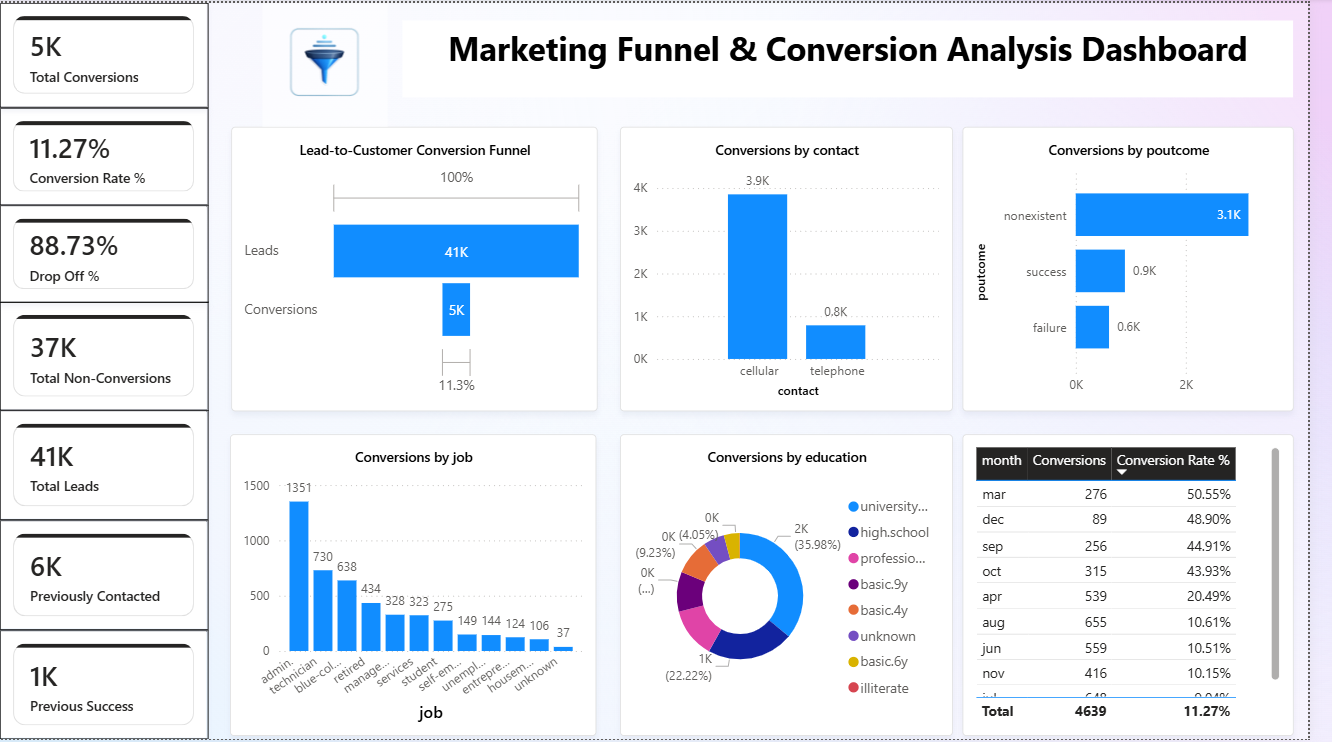

This screenshot's page, from the dashboard's own definition file:
{"tool":"powerbi","page":{"name":"Page 1","canvas":[1280,720],"ordinal":0},"visuals":[{"type":"cardVisual","fields":{"Data":["bank-additional-full.Conversion Rate %"]},"box":[14.3,106.9,182.4,106.9],"z":0},{"type":"cardVisual","fields":{"Data":["bank-additional-full.Total Non-Conversions"]},"box":[564.5,106.9,191,106.9],"z":1000},{"type":"cardVisual","fields":{"Data":["bank-additional-full.Total Conversions"]},"box":[196.7,106.9,189.6,106.9],"z":2000},{"type":"cardVisual","fields":{"Data":["bank-additional-full.Total Leads"]},"box":[755.5,106.9,175.3,106.9],"z":3000},{"type":"cardVisual","fields":{"Data":["bank-additional-full.Drop Off %"]},"box":[386.3,106.9,178.2,106.9],"z":4000},{"type":"funnel","title":"Lead-to-Customer Conversion Funnel","fields":{"Category":["Funnel_data.Column1"],"Y":["Sum(Funnel_data.Column2)"]},"box":[21.4,225.2,386.3,206.7],"z":5000},{"type":"clusteredColumnChart","fields":{"Y":["bank-additional-full.Conversions"],"Category":["bank-additional-full.contact"]},"box":[430.5,225.2,325,206.7],"z":6000},{"type":"clusteredBarChart","fields":{"Category":["bank-additional-full.poutcome"],"Y":["bank-additional-full.Conversions"]},"box":[782.5,226.6,323.6,206.7],"z":7000},{"type":"columnChart","fields":{"Category":["bank-additional-full.job"],"Y":["bank-additional-full.Conversions"]},"box":[21.4,451.8,386.3,250.9],"z":8000},{"type":"donutChart","fields":{"Category":["bank-additional-full.education"],"Y":["bank-additional-full.Conversions"]},"box":[430.5,451.8,325,250.9],"z":9000},{"type":"tableEx","fields":{"Values":["bank-additional-full.month","bank-additional-full.Conversions","bank-additional-full.Conversion Rate %"]},"box":[782.5,451.8,323.6,253.7],"z":10000},{"type":"cardVisual","fields":{"Data":["bank-additional-full.Previously Contacted"]},"box":[930.8,106.9,163.9,106.9],"z":11000},{"type":"cardVisual","fields":{"Data":["Funnel_data.poutcome count"]},"box":[1094.7,106.9,162.5,106.9],"z":12000},{"type":"textbox","box":[21.4,21.4,1220.1,65.6],"z":13000},{"type":"slicer","fields":{"Values":["bank-additional-full.month","bank-additional-full.job","bank-additional-full.contact"]},"box":[1107.5,226.6,149.7,206.7],"z":14000}]}

Visuals, with their boxes in screenshot pixels (x1, y1, x2, y2), scaled from the page's 1280x720 canvas onto the 1332x742 screenshot:
cardVisual - bank-additional-full.Conversion Rate %: locate(15, 110, 205, 220)
cardVisual - bank-additional-full.Total Non-Conversions: locate(587, 110, 786, 220)
cardVisual - bank-additional-full.Total Conversions: locate(205, 110, 402, 220)
cardVisual - bank-additional-full.Total Leads: locate(786, 110, 969, 220)
cardVisual - bank-additional-full.Drop Off %: locate(402, 110, 587, 220)
"Lead-to-Customer Conversion Funnel" funnel: locate(22, 232, 424, 445)
clusteredColumnChart - bank-additional-full.Conversions x bank-additional-full.contact: locate(448, 232, 786, 445)
clusteredBarChart - bank-additional-full.poutcome x bank-additional-full.Conversions: locate(814, 234, 1151, 447)
columnChart - bank-additional-full.job x bank-additional-full.Conversions: locate(22, 466, 424, 724)
donutChart - bank-additional-full.education x bank-additional-full.Conversions: locate(448, 466, 786, 724)
tableEx - bank-additional-full.month x bank-additional-full.Conversions: locate(814, 466, 1151, 727)
cardVisual - bank-additional-full.Previously Contacted: locate(969, 110, 1139, 220)
cardVisual - Funnel_data.poutcome count: locate(1139, 110, 1308, 220)
textbox: locate(22, 22, 1292, 90)
slicer - bank-additional-full.month x bank-additional-full.job: locate(1152, 234, 1308, 447)
